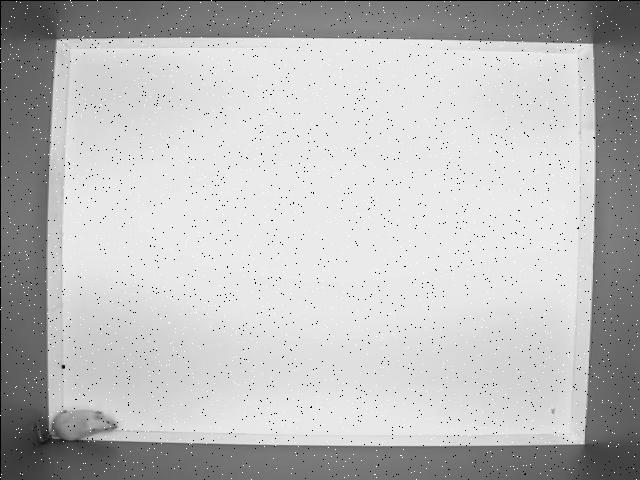Tikus: (32, 408, 118, 444)
